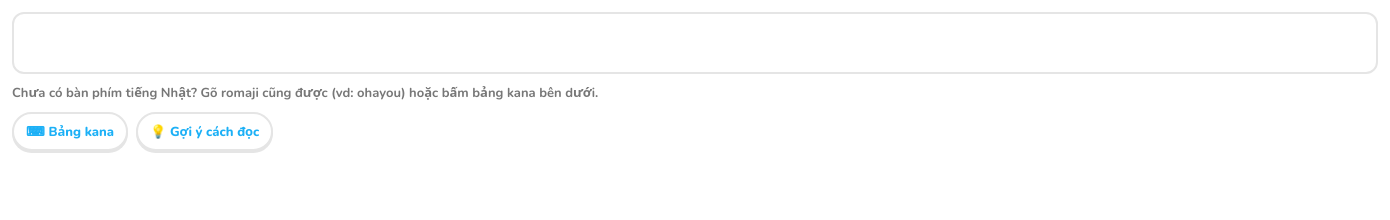
it: TypingField — beginner scaffolding › reveals the romaji reading on demand
This screenshot has width=1390, height=220.
Click the button with test id "reading-hint-toggle": click(205, 132) [136,112,273,151]
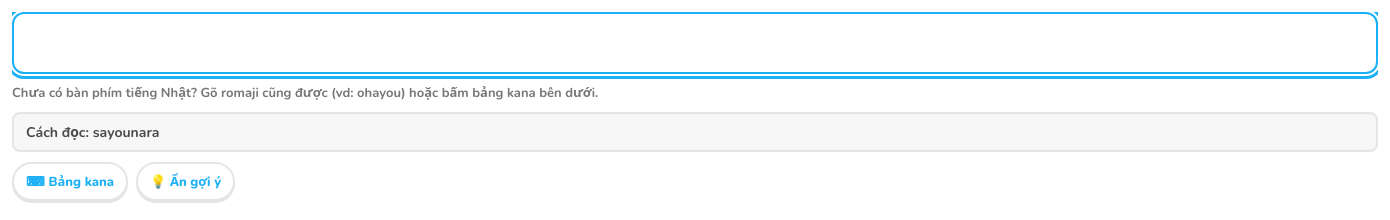
Check: the element with test id "reading-hint" shows "sayounara", box [93,123,160,142]
